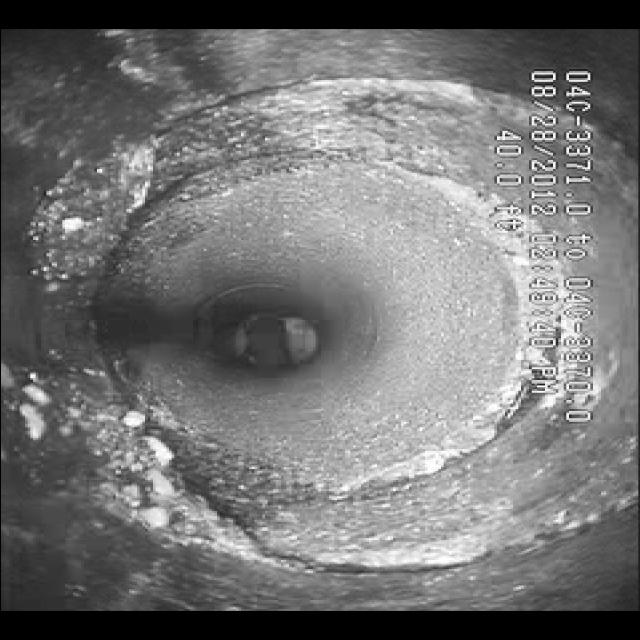Fracture: (104, 450, 552, 590), (110, 62, 423, 212)
